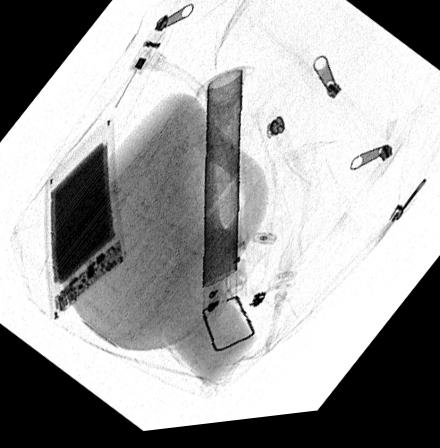Powerbank: (44, 124, 125, 325)
